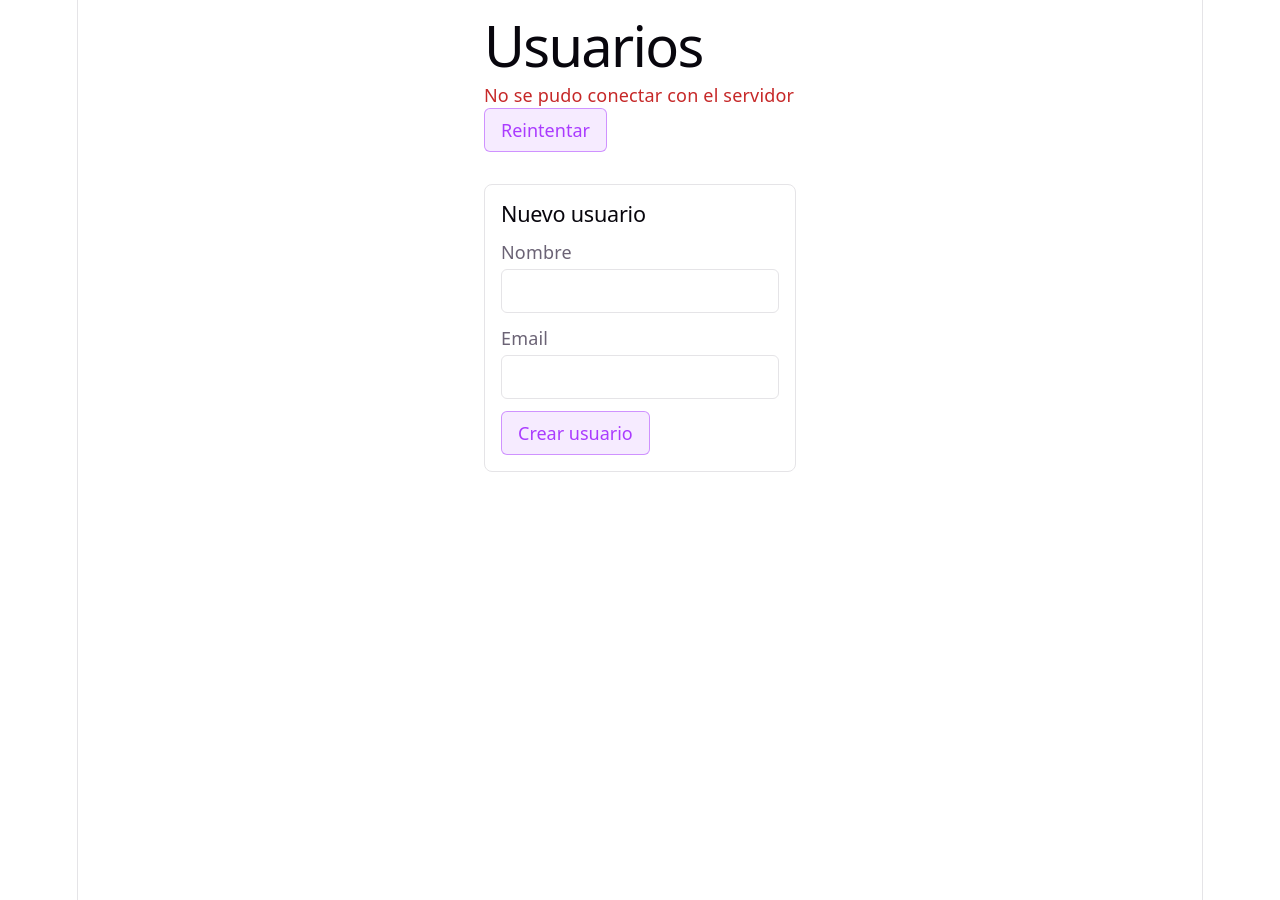
Scenario: UsuariosPage › muestra el error y permite reintentar
The image size is (1280, 900).
Expected: the message shows "No se pudo conectar con el servidor", [484,83,794,107]
What coordinates should you click on to do the following:
click the button "Reintentar"
I would click on:
 (545, 130)
Its box is [484,108,607,152].
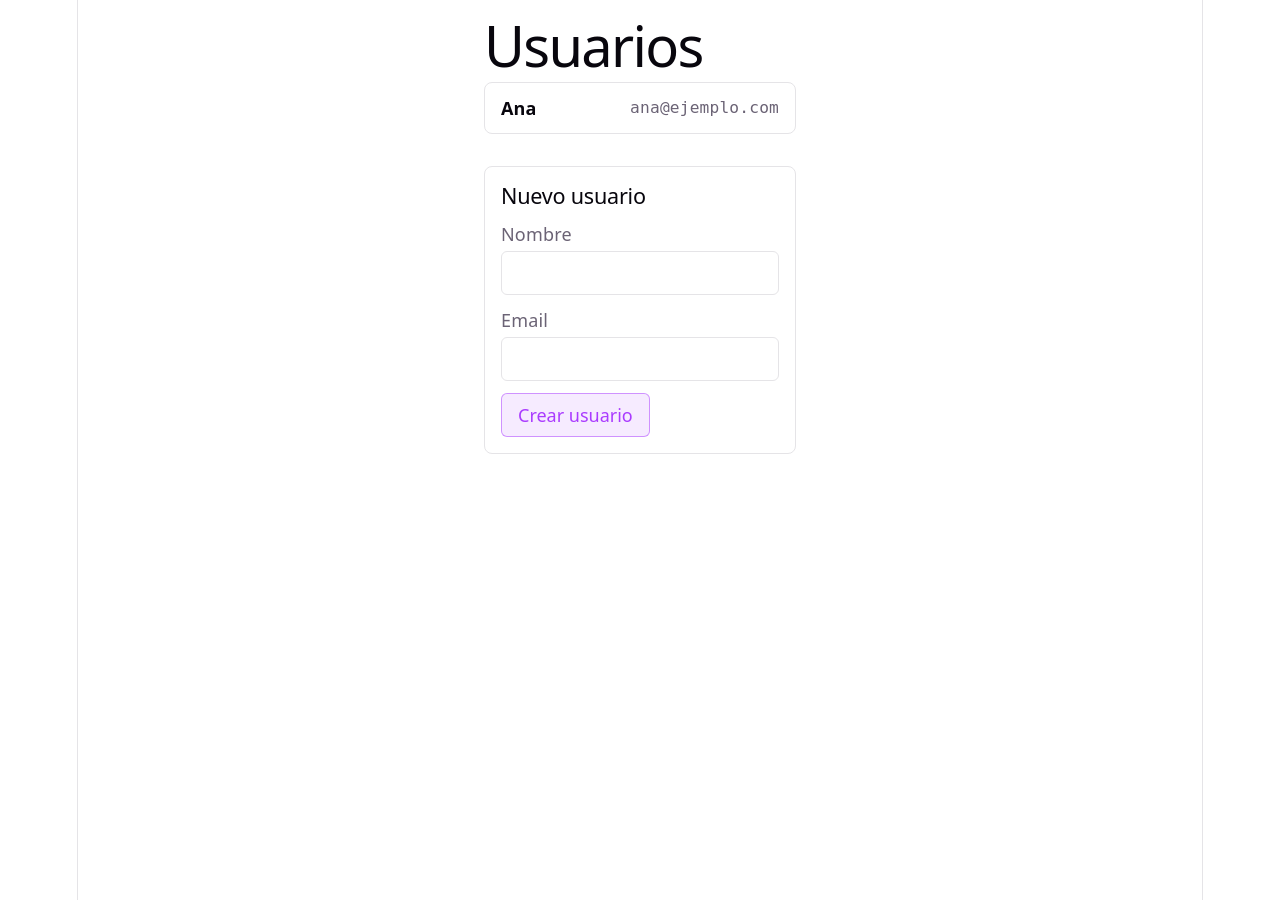
Expected: the text "Ana" is shown, [501,95,537,121]
Expected: the message "No se pudo conectar con el servidor Reintentar" is gone
